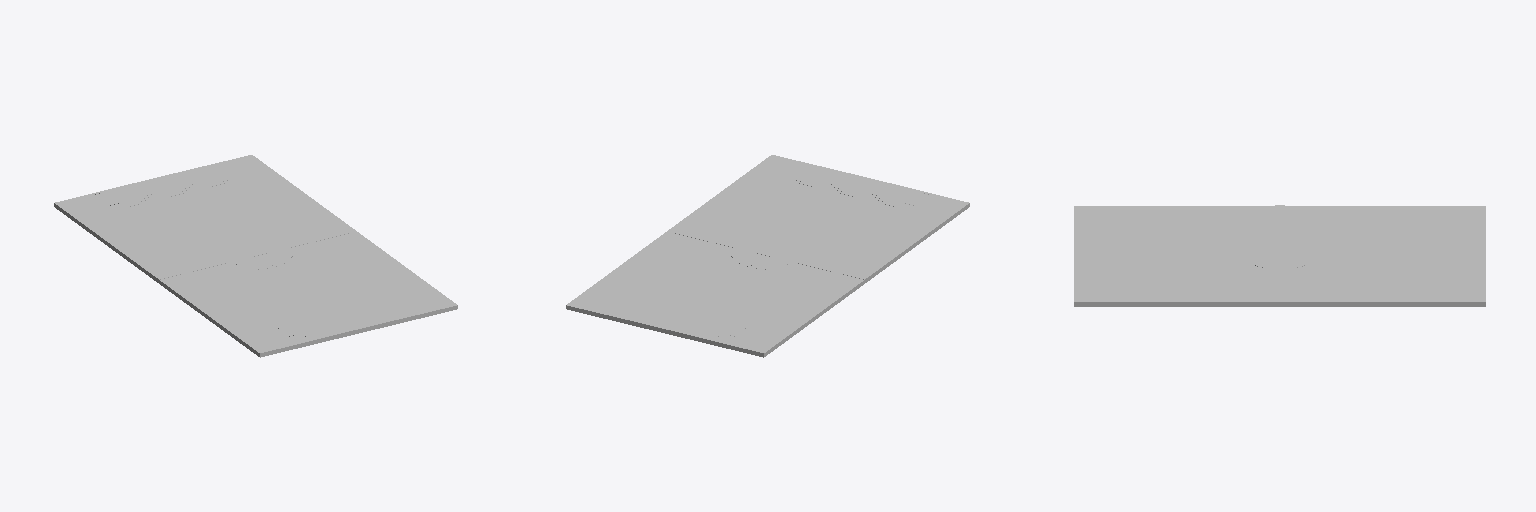
The model's file is soccer2.obj.
3 renders of one model, left to right at view 1: azimuth 30°, elevation 25°; view 2: azimuth 150°, elevation 25°; view 3: azimuth 270°, elevation 25°, orthographic.
Parts seen in each view (by area): view 1: obj_0; view 2: obj_0; view 3: obj_0.
Boxes of the visible parts, x1,y1,x2,y2 form: obj_0: [54, 155, 457, 357]; obj_0: [566, 155, 969, 357]; obj_0: [1074, 205, 1485, 306].
Size of the model in its own units: 50 by 1.05 by 90.